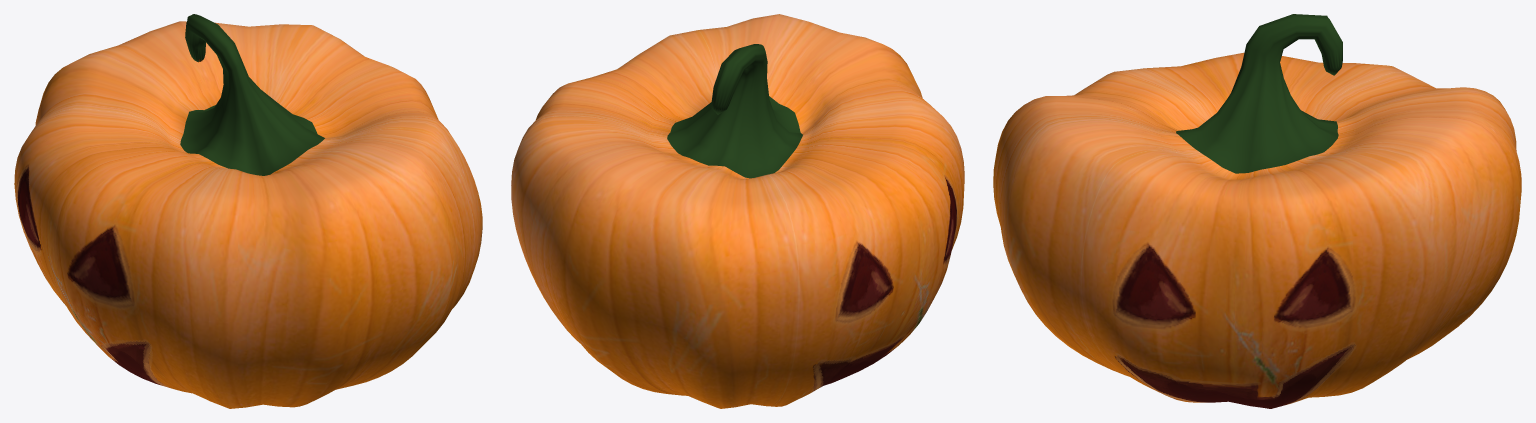
File: PUMPKINTWO.fbx
The picture shows the model from 3 angles, left to right: view 1: azimuth 30°, elevation 25°; view 2: azimuth 150°, elevation 25°; view 3: azimuth 270°, elevation 25°; orthographic projection. The views are drawn at different scales.
Visible parts, largest first — view 1: pSphere8; view 2: pSphere8; view 3: pSphere8.
Part boxes in pixels (left/top/right/bottom): pSphere8: left=14, top=14, right=482, bottom=408; pSphere8: left=511, top=14, right=964, bottom=408; pSphere8: left=993, top=14, right=1521, bottom=408.
Size of the model in its own units: 0.6054 by 0.5179 by 0.6928.
Materials: 2 (1 with a texture image).
